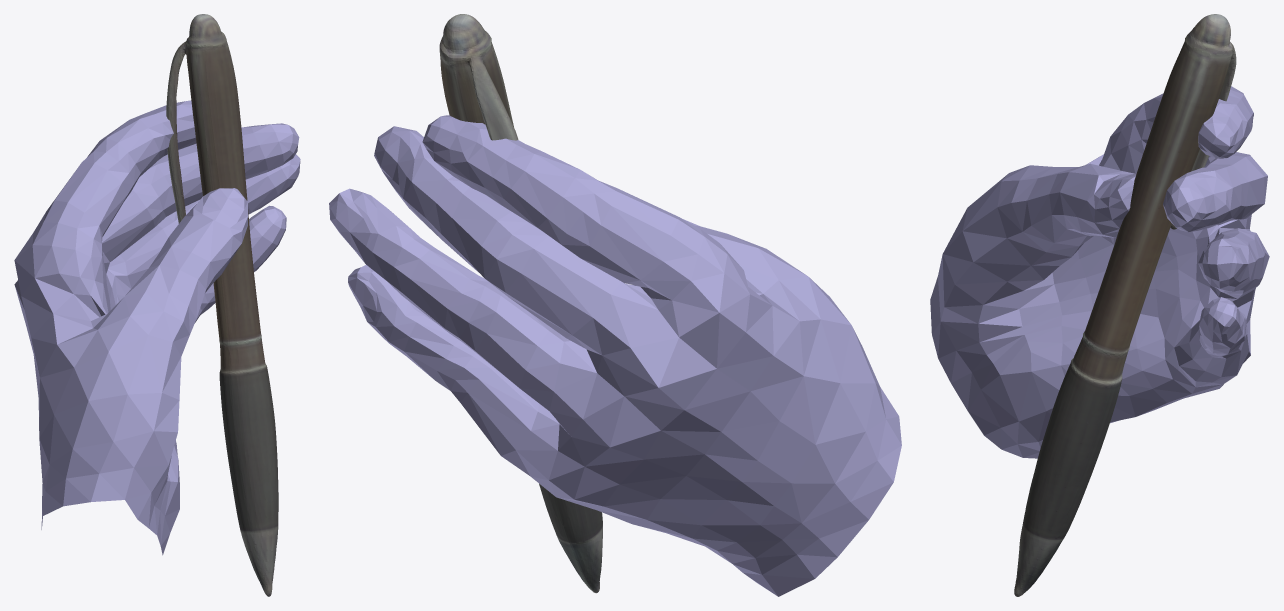
File: frame_0008_source_000008_hand_object.glb
The picture shows the model from 3 angles, left to right: view 1: azimuth 30°, elevation 25°; view 2: azimuth 150°, elevation 25°; view 3: azimuth 270°, elevation 25°; orthographic projection. The views are drawn at different scales.
Parts seen in each view (by area): view 1: world; view 2: world; view 3: world.
Boxes of the visible parts, box(x1,y1,x2,y2) form: world: box(14, 14, 300, 596); world: box(329, 14, 901, 596); world: box(930, 14, 1269, 596).
Bounding box in the file's own units: 0.1307 × 0.1836 × 0.0953.
